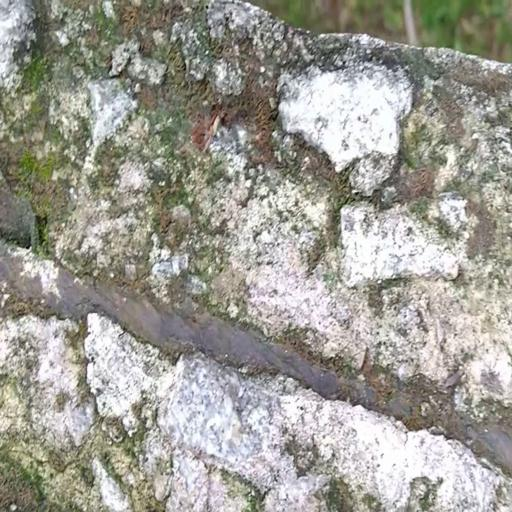spalling: (3, 177, 512, 489)
